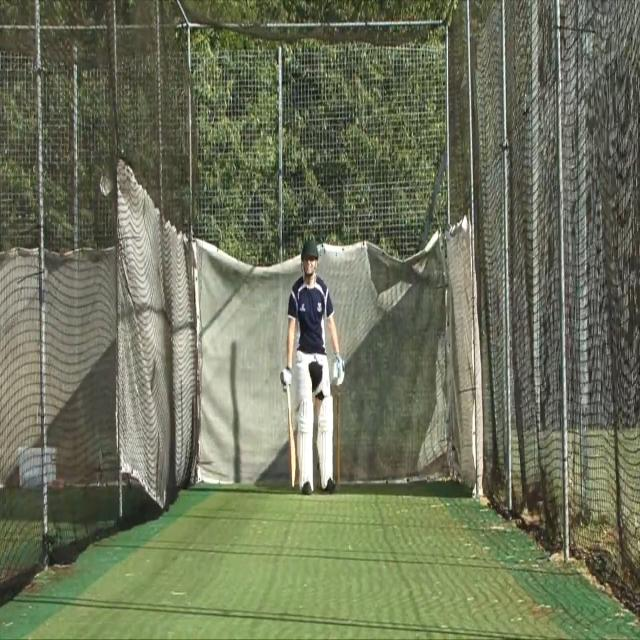batsman: (279, 238, 345, 497)
